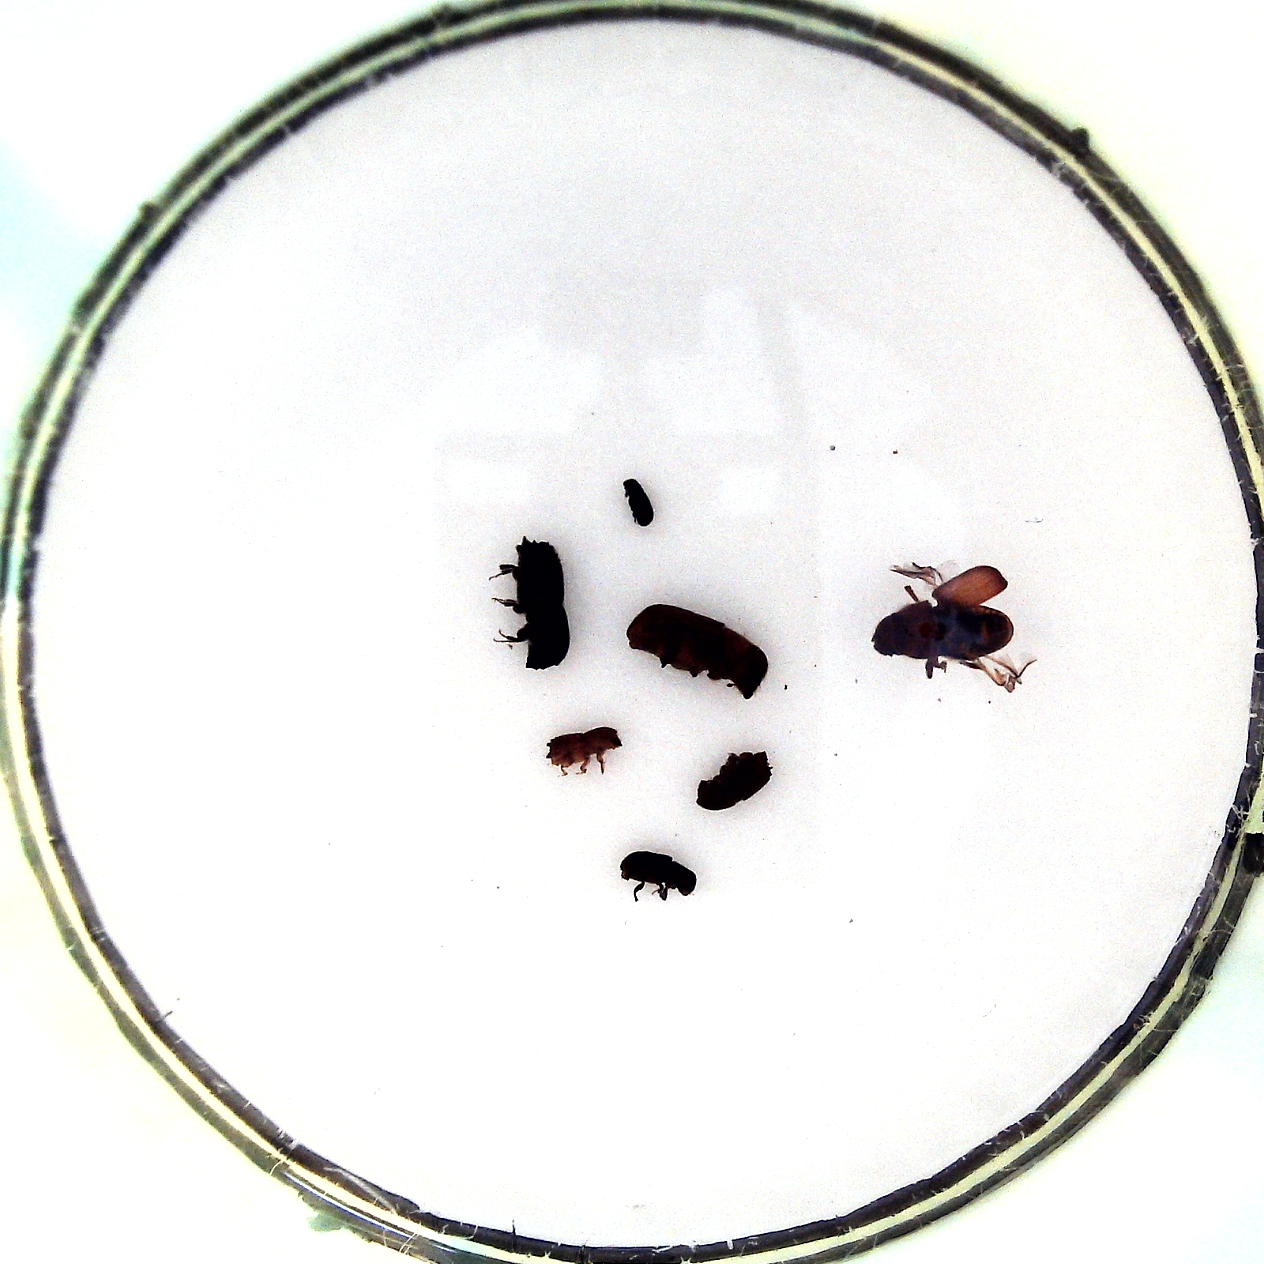Boerner: (493, 536, 578, 670)
Leconte: (875, 560, 1039, 695), (627, 598, 776, 698)
Linnaeus: (693, 747, 780, 820)
acuminatus: (545, 719, 624, 780)
armandi: (617, 847, 704, 907)
coleoptera: (622, 472, 662, 537)
